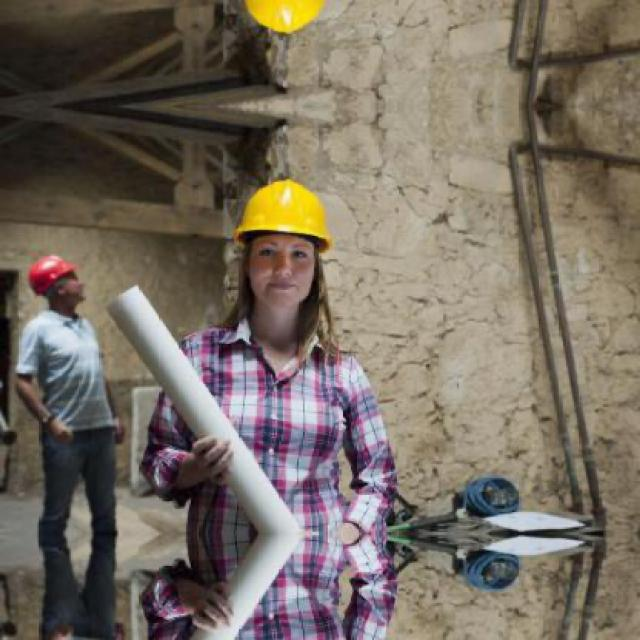helmet: (226, 167, 340, 330), (225, 0, 340, 48), (24, 252, 84, 308)
